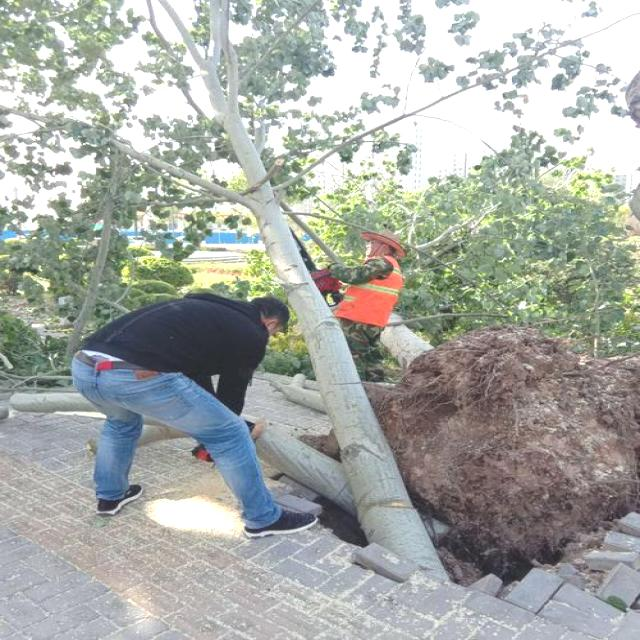fallen_object: (138, 0, 640, 570)
